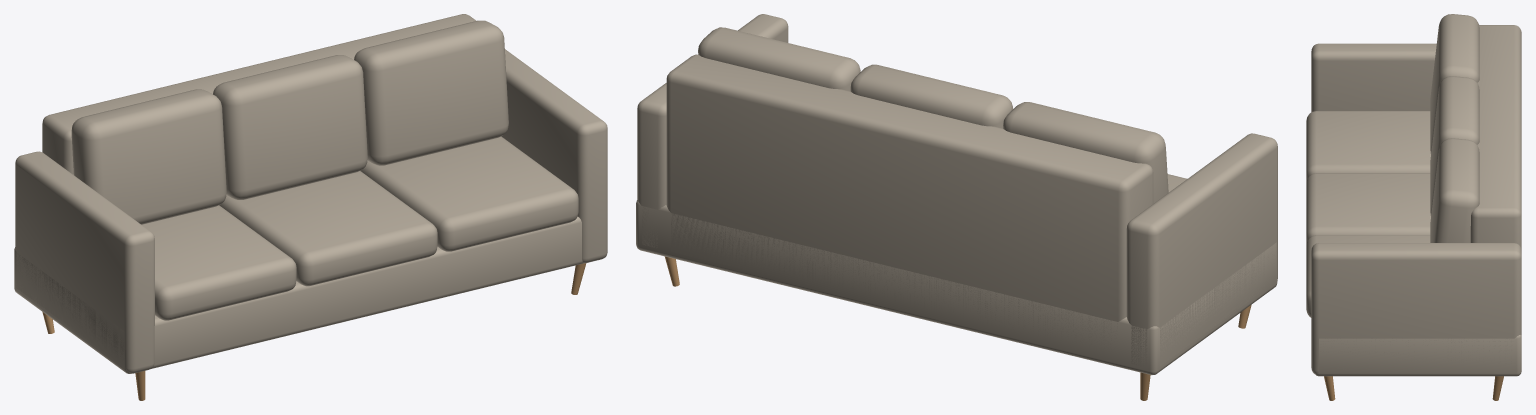
File: mid-century-3-seat-sofa.glb
The picture shows the model from 3 angles, left to right: view 1: azimuth 30°, elevation 25°; view 2: azimuth 150°, elevation 25°; view 3: azimuth 270°, elevation 25°; orthographic projection. The views are drawn at different scales.
Parts seen in each view (by area): view 1: mid-century-3-seat-sofa; view 2: mid-century-3-seat-sofa; view 3: mid-century-3-seat-sofa.
Part boxes in pixels (x1,y1,x2,y2): mid-century-3-seat-sofa: [14, 14, 607, 400]; mid-century-3-seat-sofa: [636, 14, 1277, 400]; mid-century-3-seat-sofa: [1306, 14, 1521, 400].
Bounding box in the file's own units: 1.96 × 0.87 × 0.84.
